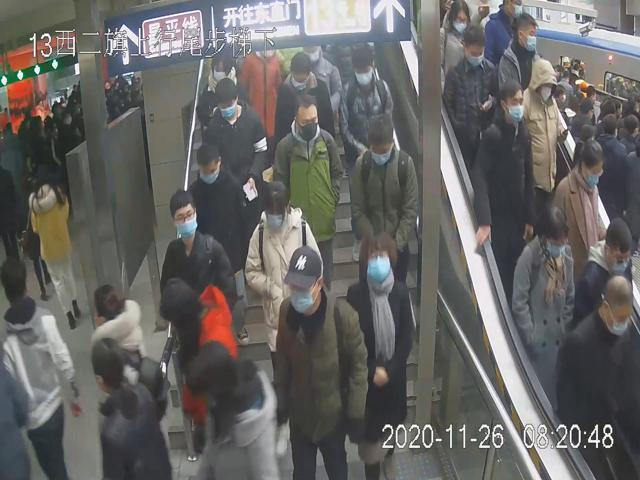person: (274, 244, 368, 480), (243, 180, 323, 457), (346, 233, 415, 480), (272, 92, 343, 287), (347, 110, 416, 305), (186, 139, 250, 346), (472, 76, 535, 286), (159, 184, 234, 351), (513, 204, 573, 383), (201, 77, 268, 209), (340, 42, 393, 154), (274, 51, 333, 142)
